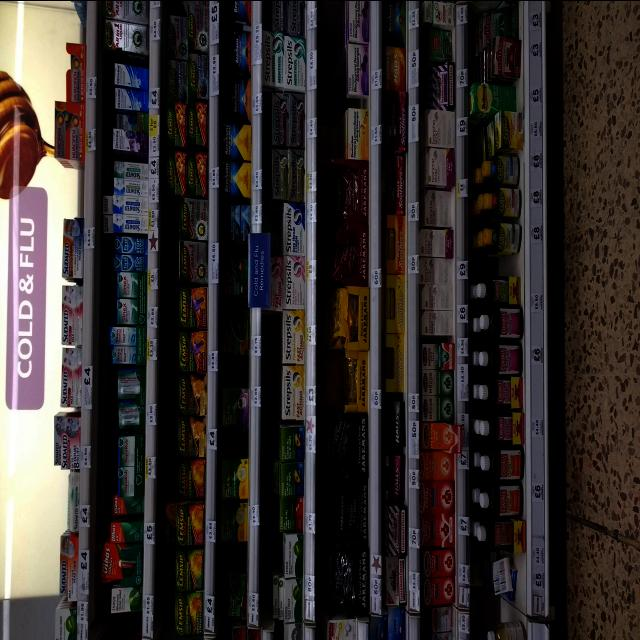empty_space: (53, 165, 83, 217), (57, 8, 87, 42), (481, 253, 517, 281), (485, 600, 525, 624), (220, 358, 250, 387), (112, 612, 144, 638), (222, 544, 246, 576), (226, 430, 249, 458)
